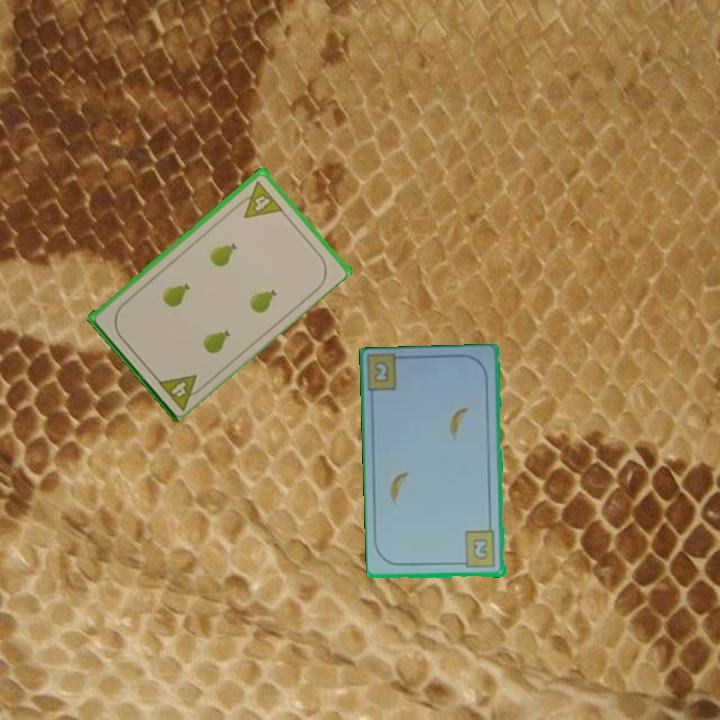2b: (456, 528, 498, 571), (371, 359, 392, 385)
4p: (153, 370, 209, 412), (232, 177, 285, 221)
